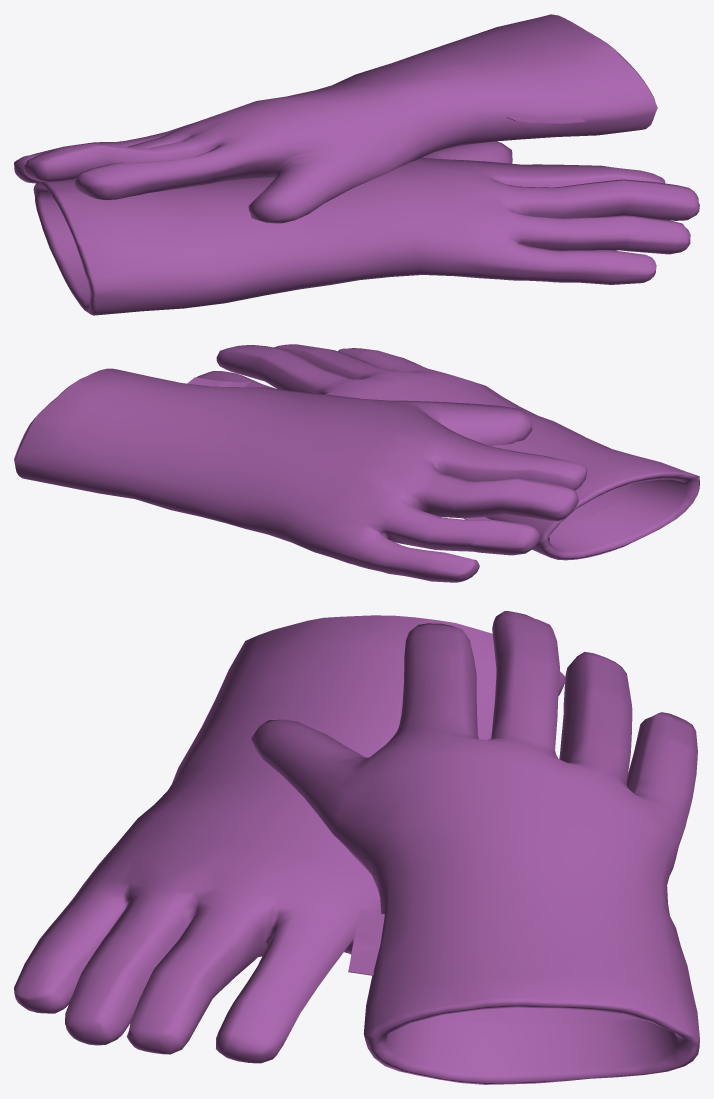
The model's file is seguranca-obj_luvas.fbx.
The picture shows the model from 3 angles, top to bottom: view 1: azimuth 30°, elevation 25°; view 2: azimuth 150°, elevation 25°; view 3: azimuth 270°, elevation 25°; orthographic projection. The views are drawn at different scales.
Parts seen in each view (by area): view 1: Luvas; view 2: Luvas; view 3: Luvas.
Part boxes in pixels (x1,y1,x2,y2): Luvas: (14, 14, 699, 315); Luvas: (14, 344, 699, 582); Luvas: (14, 611, 699, 1084).
Bounding box in the file's own units: 8.77 × 1.43 × 6.36.
